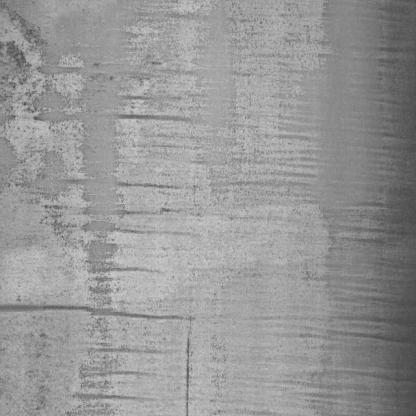waist_folding: (66, 55, 410, 381)
